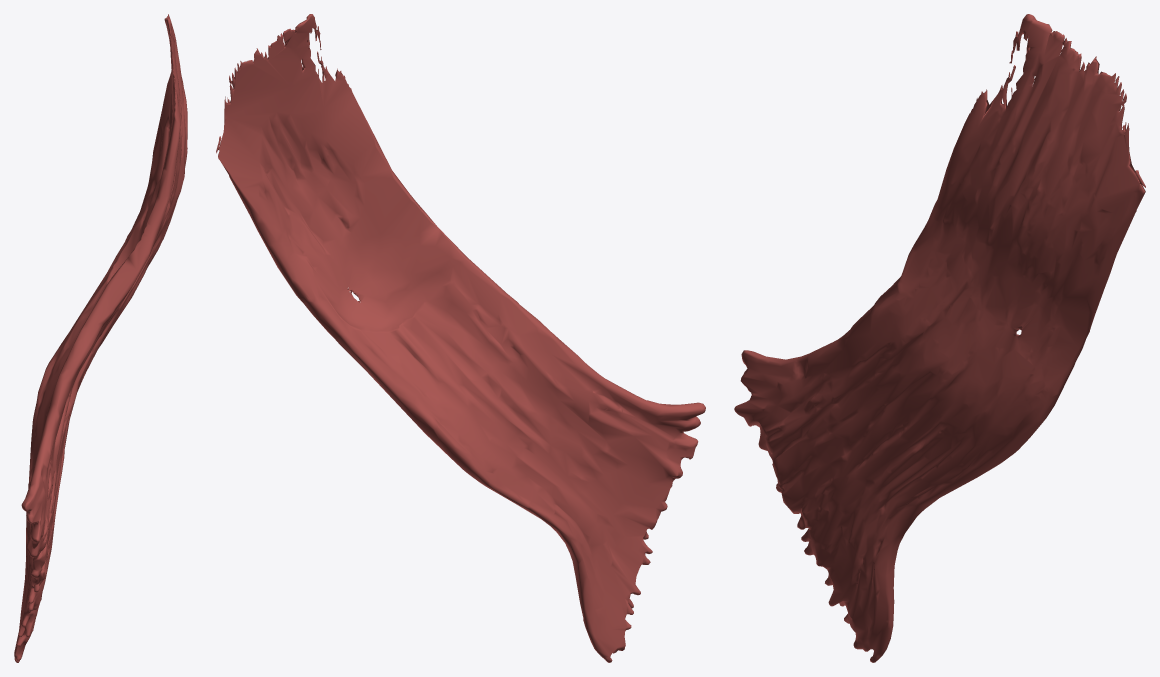
File: FMA46813.glb
3 renders of one model, left to right at view 1: azimuth 30°, elevation 25°; view 2: azimuth 150°, elevation 25°; view 3: azimuth 270°, elevation 25°, orthographic. The views are drawn at different scales.
Parts seen in each view (by area): view 1: FMA46813; view 2: FMA46813; view 3: FMA46813.
Part boxes in pixels (box(x1,y1,x2,y2)): FMA46813: box(14, 14, 187, 662); FMA46813: box(216, 14, 705, 662); FMA46813: box(734, 14, 1145, 662).
Size of the model in its own units: 0.0285 by 0.0528 by 0.0249.
